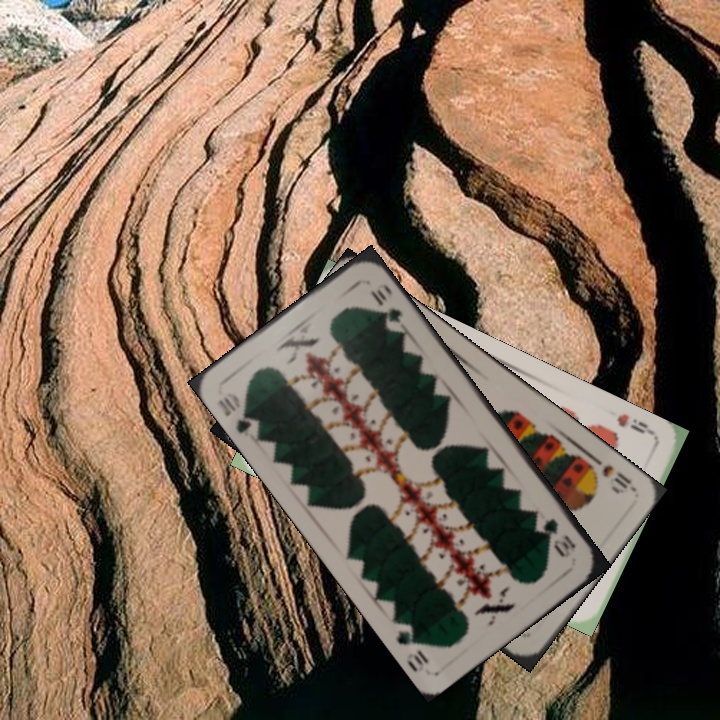G10: (214, 388, 262, 436), (539, 514, 578, 561)
H9: (612, 409, 658, 442)
S10: (582, 450, 636, 497)
